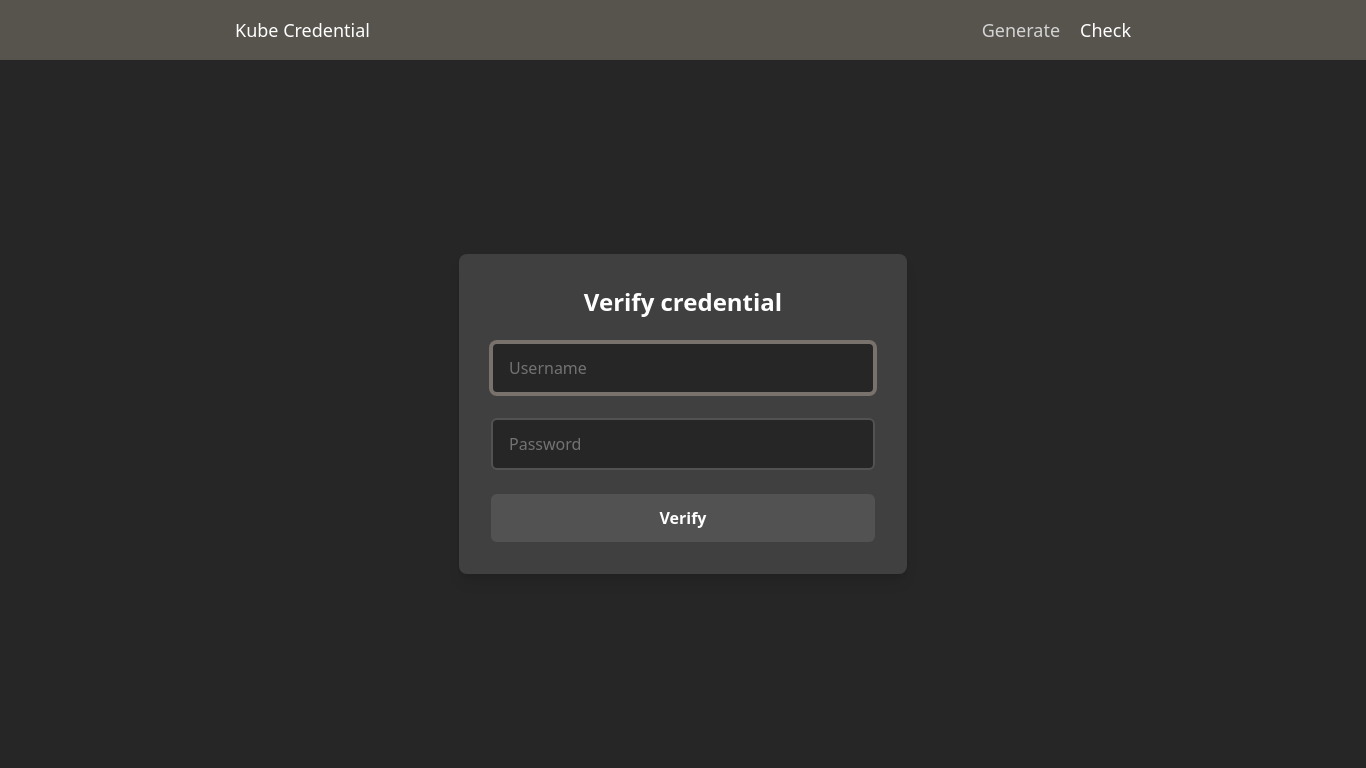
Test: VerifyPage › should show a success modal with credential details when the username and password combo is valid
The image size is (1366, 768).
Type "test-user" into the field with placeholder "Username".
click(683, 368); type("test-user")  # box [491,342,875,394]
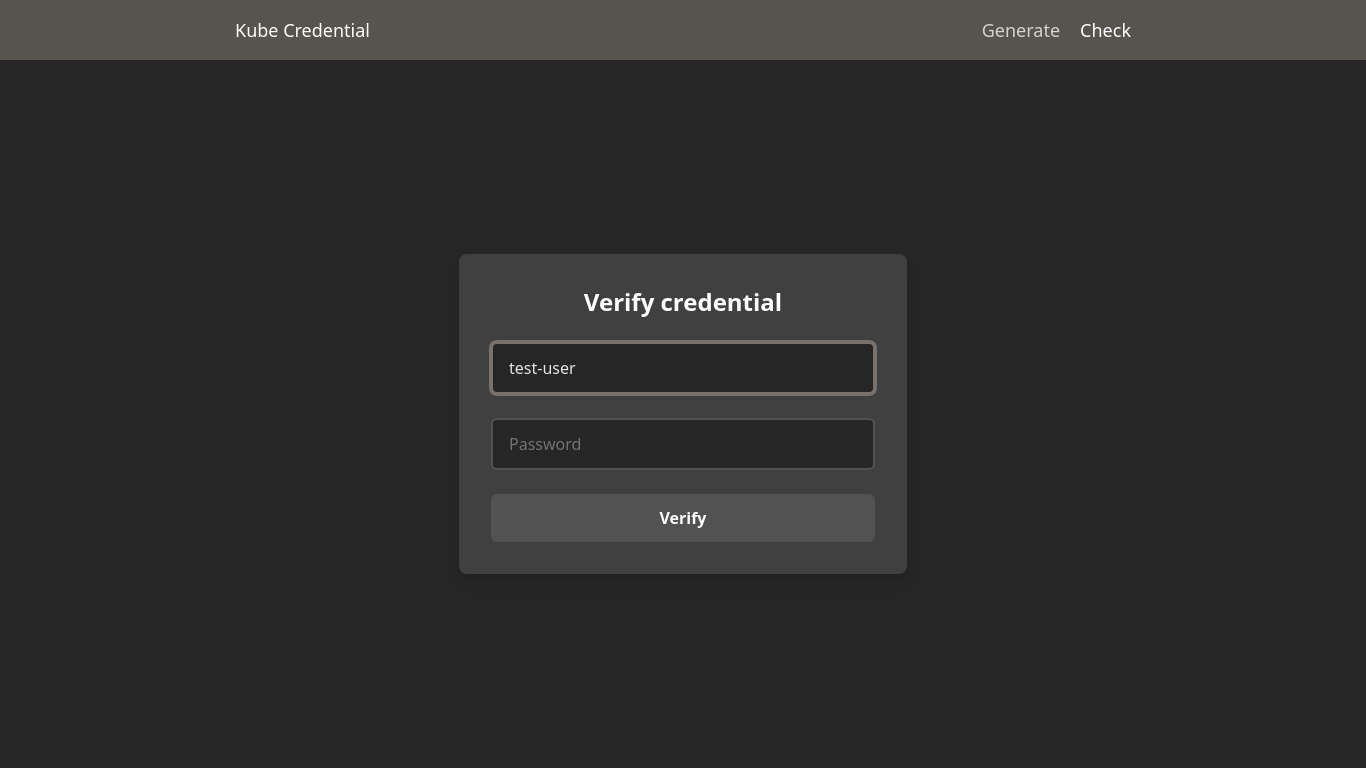
Type "test-password-123" into the password field with placeholder "Password".
click(683, 444); type("test-password-123")  # box [491,418,875,470]
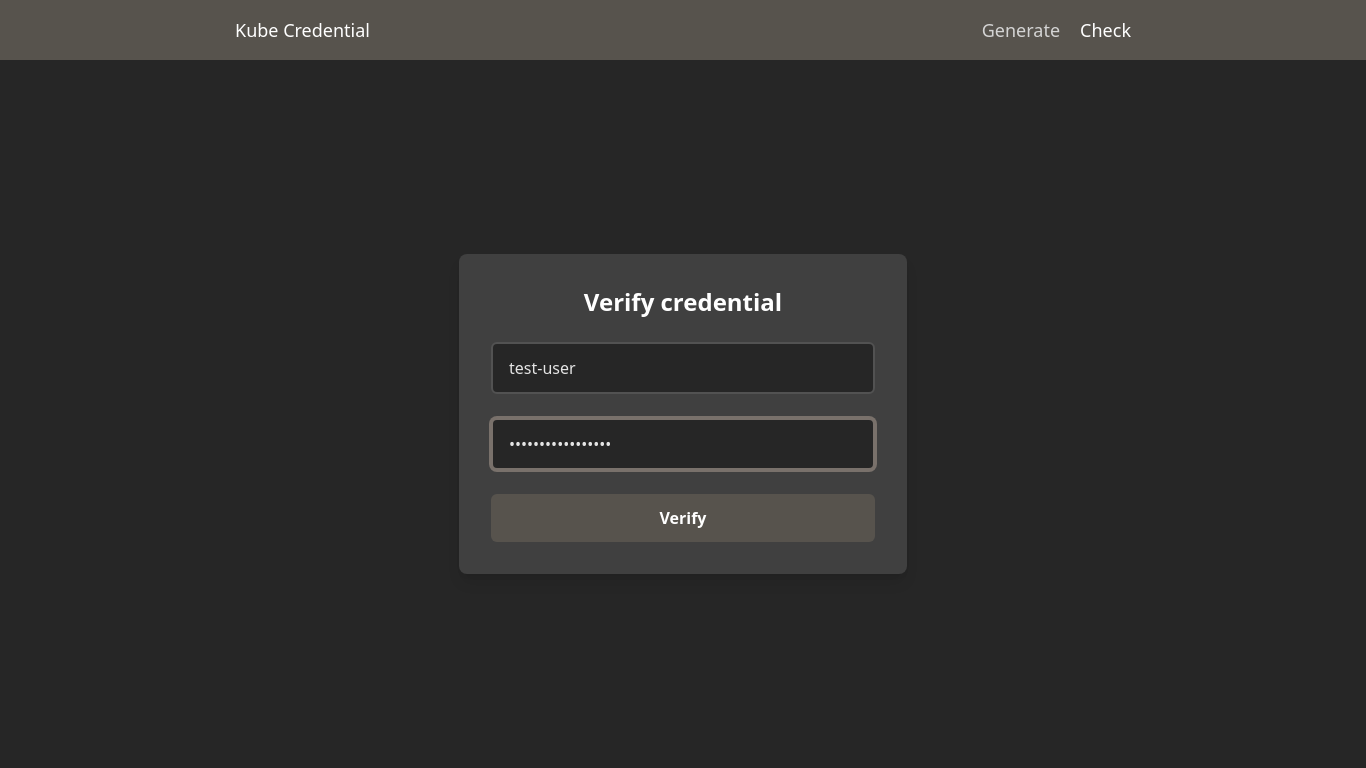
Click the button "Verify".
click(683, 518)  # box [491,494,875,542]
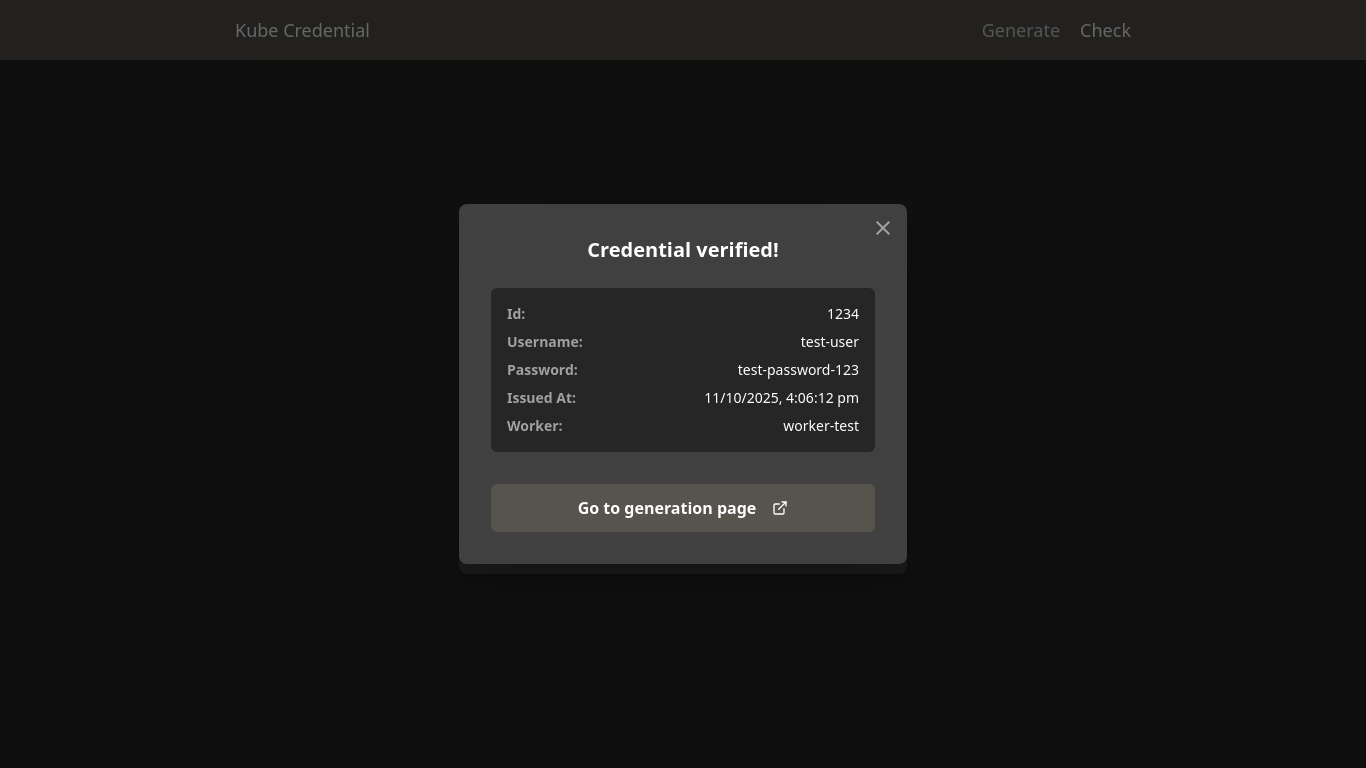
expect the button "Verify" is disabled: met, box [491,494,875,542]
expect the heading "Credential verified!" is shown: met, box [587,236,779,263]
expect the text "test-user" is shown: met, box [801,332,859,352]
